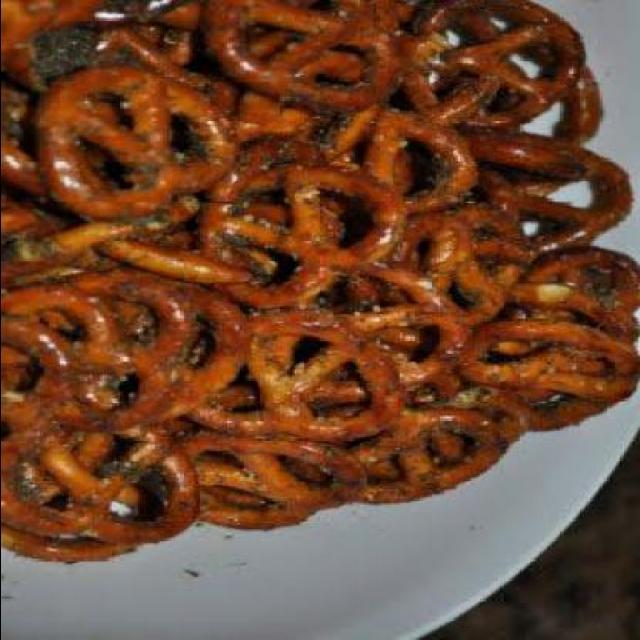Salatini packaged: (2, 8, 630, 564)
